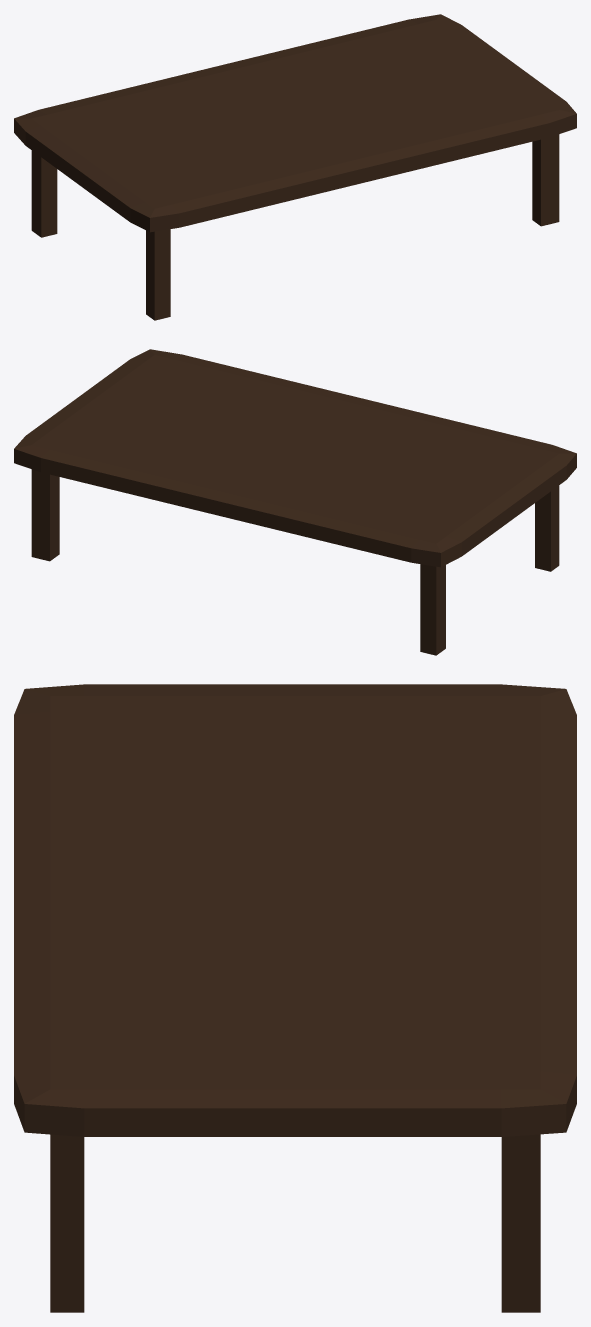
The model's file is longTable.fbx.
3 views of the same model, one above another, from view 1: azimuth 30°, elevation 25°; view 2: azimuth 150°, elevation 25°; view 3: azimuth 270°, elevation 25° (orthographic). The views are drawn at different scales.
Visible parts, largest first — view 1: Cube; view 2: Cube; view 3: Cube.
Boxes of the visible parts, x1,y1,x2,y2 form: Cube: [14, 14, 576, 320]; Cube: [14, 349, 576, 655]; Cube: [14, 684, 576, 1312].
Bounding box in the file's own units: 409 × 100 × 229.
